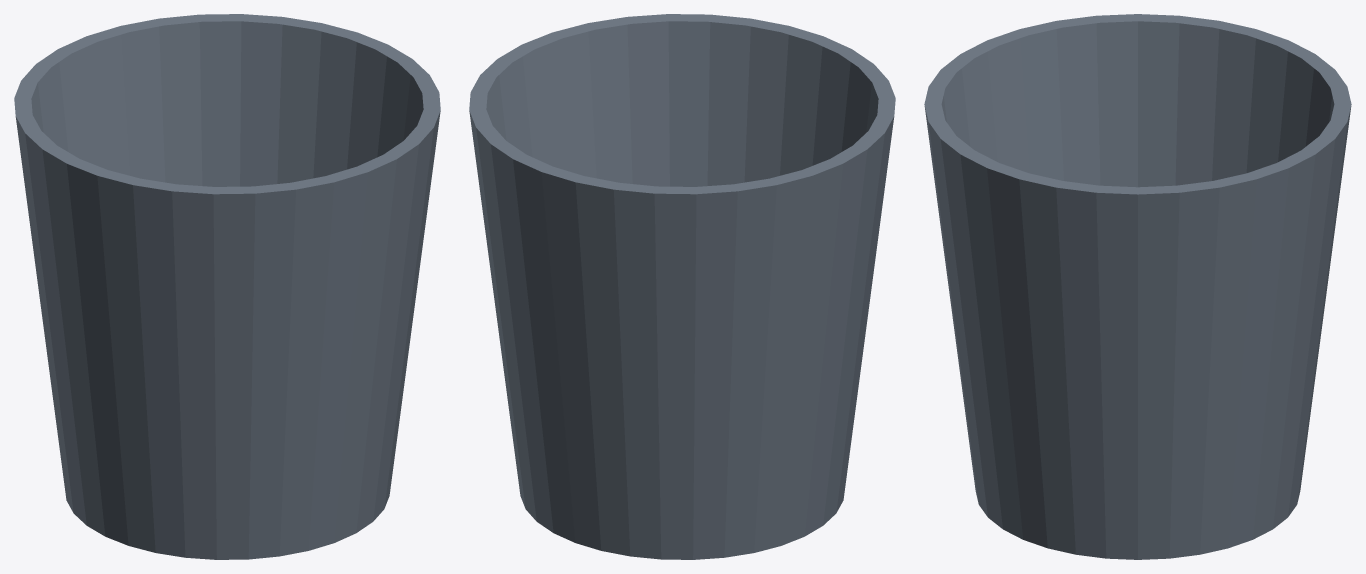
The model's file is Trash Can.glb.
3 renders of one model, left to right at view 1: azimuth 30°, elevation 25°; view 2: azimuth 150°, elevation 25°; view 3: azimuth 270°, elevation 25°, orthographic.
Visible parts, largest first — view 1: Cone; view 2: Cone; view 3: Cone.
Boxes of the visible parts, <box> form: Cone: <box>14,14,440,559</box>; Cone: <box>469,14,895,559</box>; Cone: <box>924,14,1351,559</box>.
Size of the model in its own units: 0.5 by 0.5 by 0.5.
